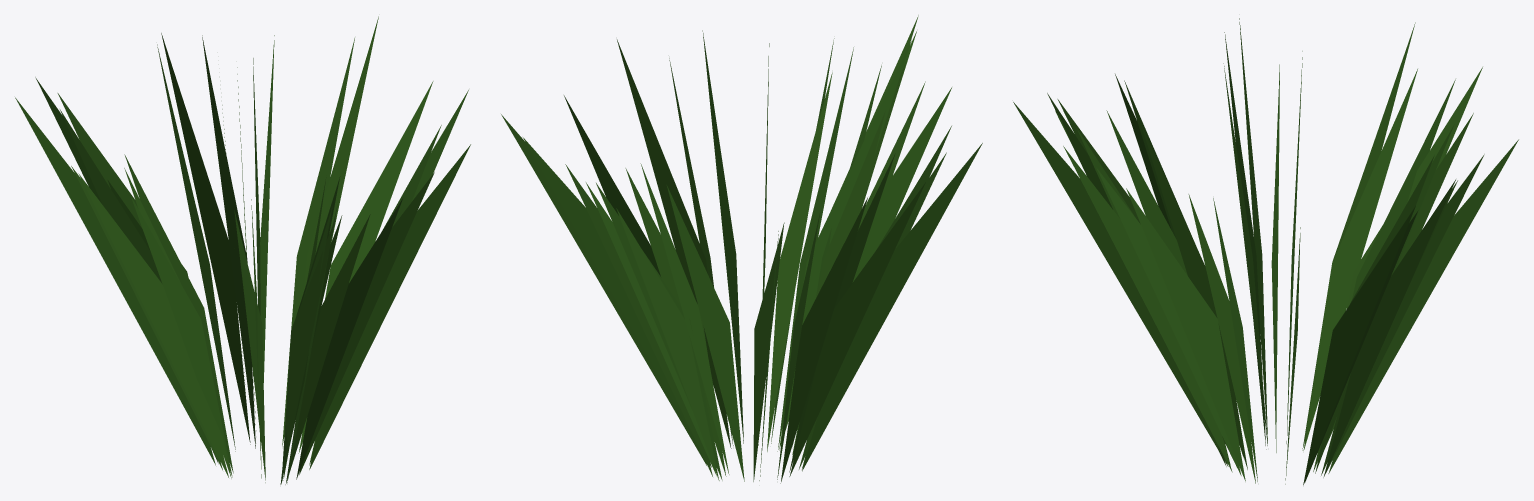
Rendered from grass_four.fbx.
The picture shows the model from 3 angles, left to right: view 1: azimuth 30°, elevation 25°; view 2: azimuth 150°, elevation 25°; view 3: azimuth 270°, elevation 25°; orthographic projection.
Visible parts, largest first — view 1: grass_four; view 2: grass_four; view 3: grass_four.
Boxes of the visible parts, box(x1,y1,x2,y2) form: grass_four: box(15, 16, 470, 484); grass_four: box(501, 15, 982, 483); grass_four: box(1013, 18, 1518, 485).
Size of the model in its own units: 39.67 by 35.32 by 44.97.
